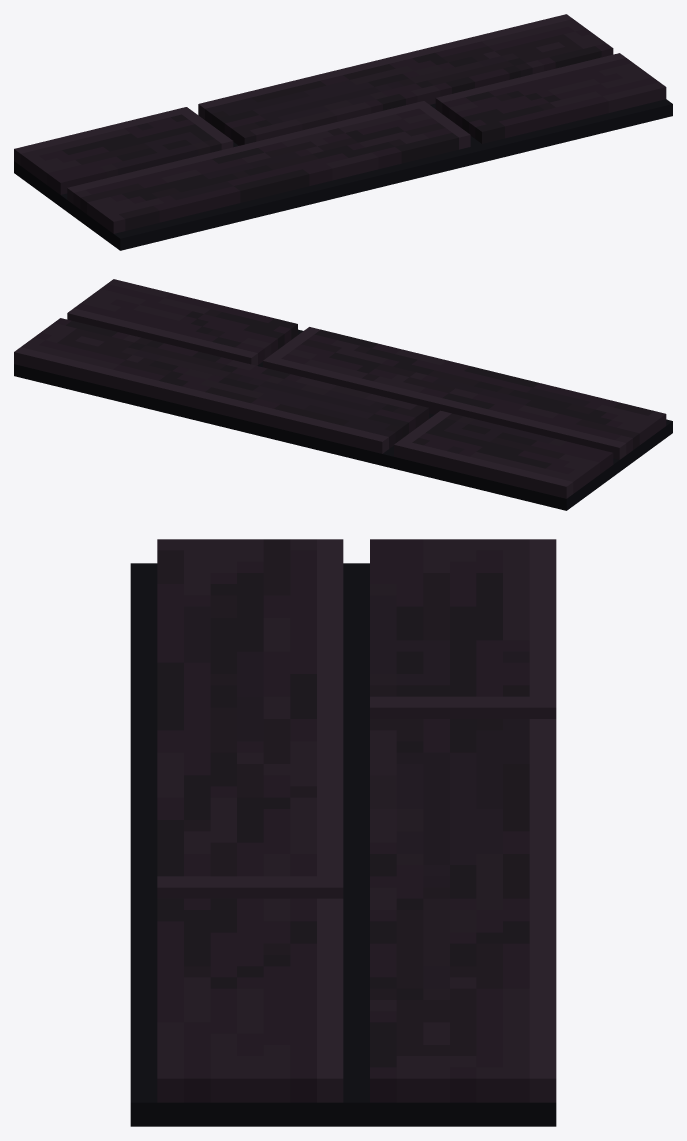
The model's file is Floor-4.obj.
The picture shows the model from 3 angles, top to bottom: view 1: azimuth 30°, elevation 25°; view 2: azimuth 150°, elevation 25°; view 3: azimuth 270°, elevation 25°; orthographic projection. The views are drawn at different scales.
Size of the model in its own units: 4.8 by 0.2 by 1.6.
1 material, 1 textured.
